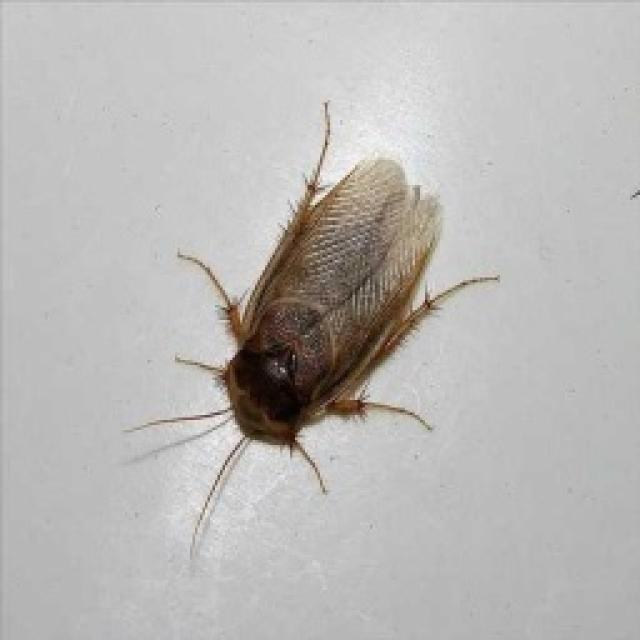cockroach: (119, 97, 503, 569)
